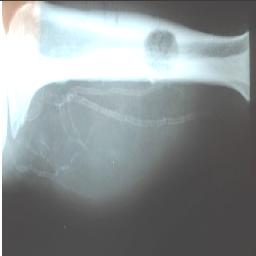cancer: (144, 28, 179, 72)
